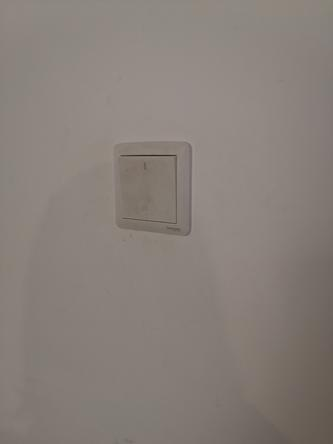switch: (115, 147, 186, 229)
